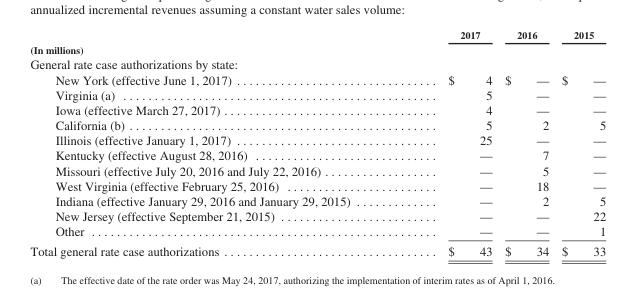table: (29, 28, 605, 258)
table column: (29, 28, 398, 258), (398, 28, 497, 258), (497, 28, 554, 258), (554, 28, 605, 258)
table column header: (29, 28, 605, 56)
table projected row header: (29, 56, 605, 71)
table row: (29, 28, 605, 56), (29, 240, 605, 258), (29, 223, 605, 240), (29, 86, 605, 102), (29, 192, 605, 208), (29, 56, 605, 71), (29, 71, 605, 86), (29, 102, 605, 117), (29, 117, 605, 132), (29, 132, 605, 147), (29, 147, 605, 162), (29, 162, 605, 177), (29, 177, 605, 192), (29, 208, 605, 223)
